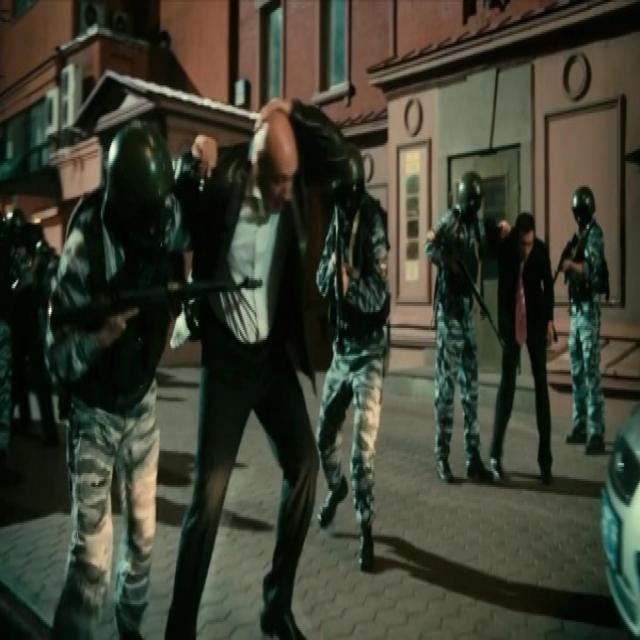rifle: (65, 275, 266, 339), (553, 237, 577, 295)
